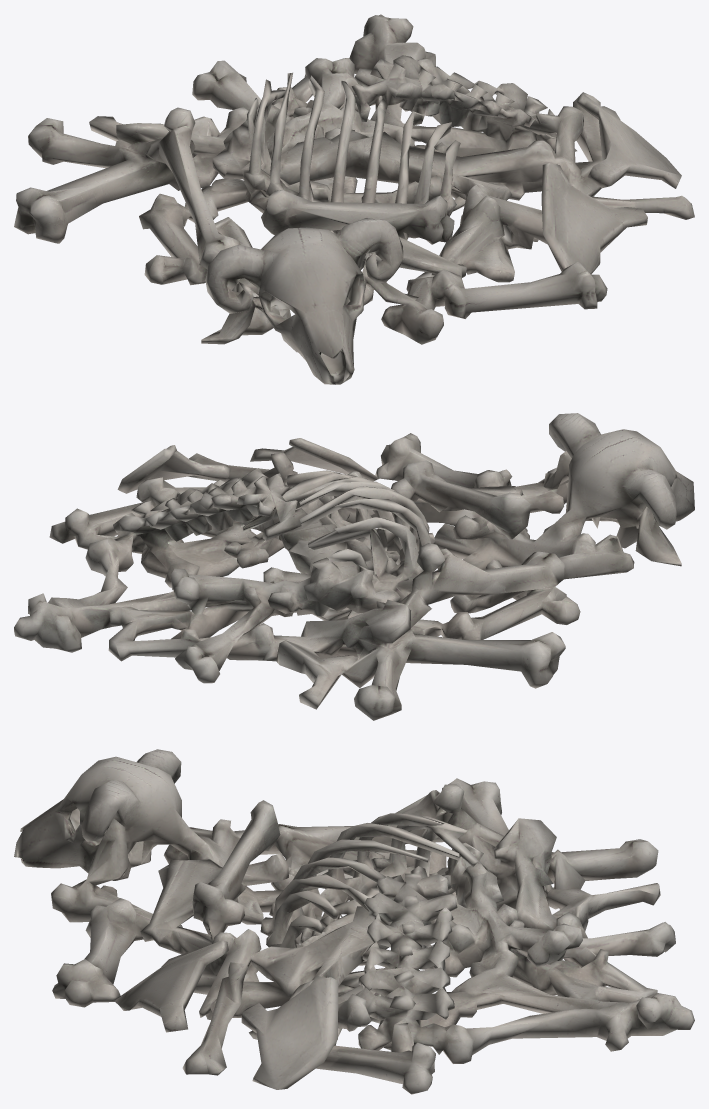
File: Meshy_AI_Ram_Skull_Boneyard_0521142335_texture.fbx
3 views of the same model, one above another, from view 1: azimuth 30°, elevation 25°; view 2: azimuth 150°, elevation 25°; view 3: azimuth 270°, elevation 25° (orthographic). The views are drawn at different scales.
Visible parts, largest first — view 1: Mesh_0; view 2: Mesh_0; view 3: Mesh_0.
Boxes of the visible parts, box(x1,y1,x2,y2) form: Mesh_0: box(14, 14, 694, 384); Mesh_0: box(14, 413, 694, 720); Mesh_0: box(14, 749, 694, 1094).
Bounding box in the file's own units: 182 × 39.21 × 191.
1 material, 1 textured.
